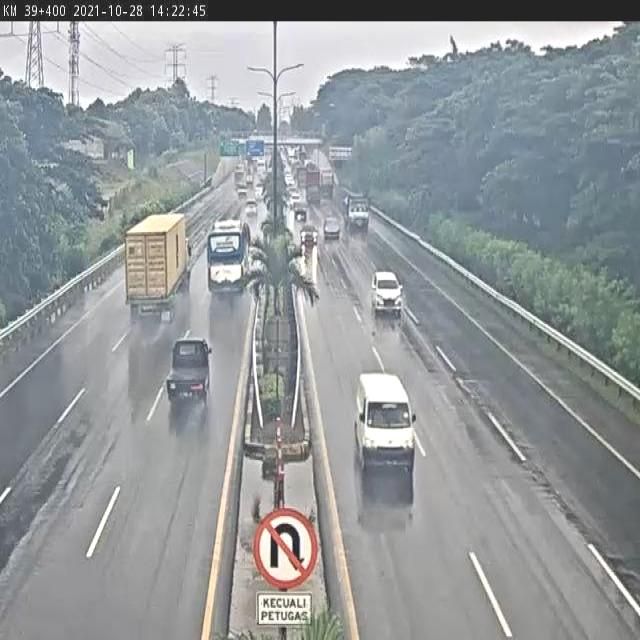Bus: (206, 220, 250, 296), (234, 164, 245, 188)
Car: (371, 270, 404, 317), (300, 225, 318, 249), (323, 217, 341, 239), (293, 201, 307, 223), (245, 199, 257, 217), (290, 190, 301, 204), (284, 174, 294, 188)
Truck: (124, 214, 192, 326), (166, 337, 212, 408), (343, 191, 369, 233), (320, 169, 334, 198), (237, 186, 247, 198)
Van: (354, 372, 415, 477)
